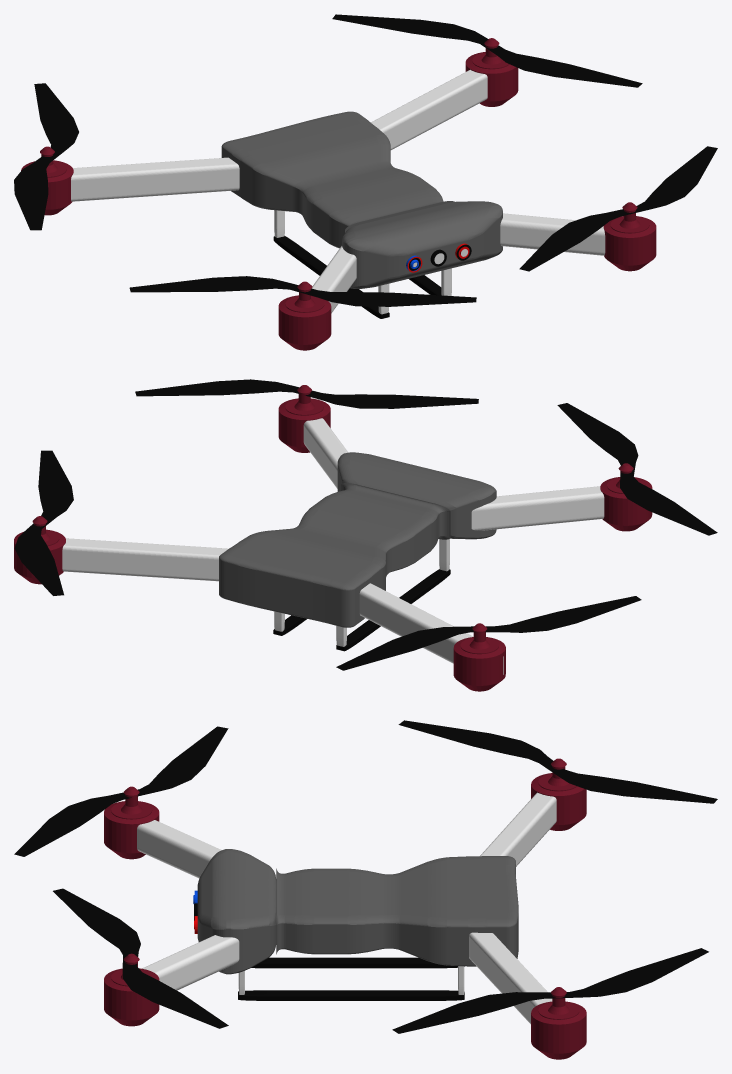
Rendered from Dron.glb.
3 renders of one model, top to bottom at view 1: azimuth 30°, elevation 25°; view 2: azimuth 150°, elevation 25°; view 3: azimuth 270°, elevation 25°, orthographic. The views are drawn at different scales.
Parts seen in each view (by area): view 1: Cube, Cube.004, Cube.001, Plane.002, Plane, Plane.003, Plane.001, Cylinder.002, Cylinder.003, Cube.002, Cylinder.004, Cylinder.001 (+2 smaller); view 2: Cube, Cube.001, Cube.003, Plane.003, Plane.001, Plane.002, Plane, Cube.004, Cylinder.001, Cylinder.003, Cylinder.002, Cube.002 (+2 smaller); view 3: Cube, Plane.001, Plane, Plane.002, Plane.003, Cylinder.004, Cube.001, Cube.002, Cube.003, Cube.004, Cube.005, Cylinder.002 (+3 smaller).
Part boxes in pixels (x1,y1,x2,y2): Cube: (221,111,502,288); Cube.004: (71,157,239,201); Cube.001: (371,69,487,149); Plane.002: (129,276,476,306); Plane: (332,14,642,87); Plane.003: (519,146,717,271); Plane.001: (14,83,78,230); Cylinder.002: (278,281,331,350); Cylinder.003: (603,202,656,271); Cube.002: (500,213,605,255); Cylinder.004: (465,38,518,106); Cylinder.001: (21,146,73,215); Cube: (219,452,496,627); Cube.001: (62,538,228,581); Cube.003: (471,486,604,530); Plane.003: (135,379,478,408); Plane.001: (336,596,641,670); Plane.002: (557,403,717,535); Plane: (14,450,73,595); Cube.004: (359,583,503,674); Cylinder.001: (453,623,505,691); Cylinder.003: (278,385,330,452); Cylinder.002: (600,463,652,531); Cube.002: (303,418,348,488); Cube: (197,849,518,974); Plane.001: (398,720,717,803); Plane: (392,948,708,1033); Plane.002: (14,726,228,856); Plane.003: (53,888,228,1028); Cylinder.004: (531,987,586,1059); Cube.001: (469,932,552,1024); Cube.002: (142,935,239,990); Cube.003: (137,820,276,878); Cube.004: (480,792,556,866); Cube.005: (238,990,464,1000); Cylinder.002: (104,786,159,859).
Bounding box in the file's own units: 3.86 × 0.6343 × 3.66.
